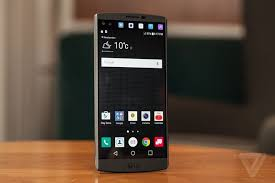lg: (90, 10, 173, 174)
